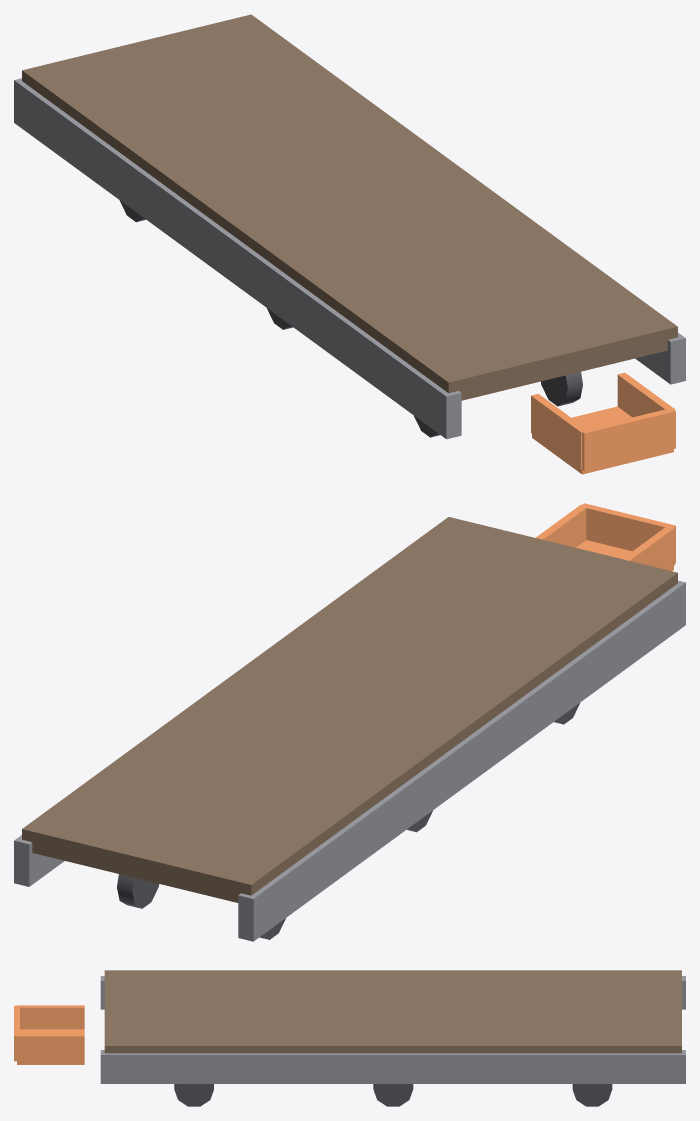
Rendered from build_minecart_3.glb.
3 renders of one model, top to bottom at view 1: azimuth 30°, elevation 25°; view 2: azimuth 150°, elevation 25°; view 3: azimuth 270°, elevation 25°, orthographic. The views are drawn at different scales.
Visible parts, largest first — view 1: Baked; view 2: Baked; view 3: Baked.
Part boxes in pixels (x1,y1,x2,y2): Baked: [14, 14, 685, 474]; Baked: [14, 503, 685, 941]; Baked: [14, 970, 685, 1106].
Bounding box in the file's own units: 0.94 × 0.4151 × 3.38.
